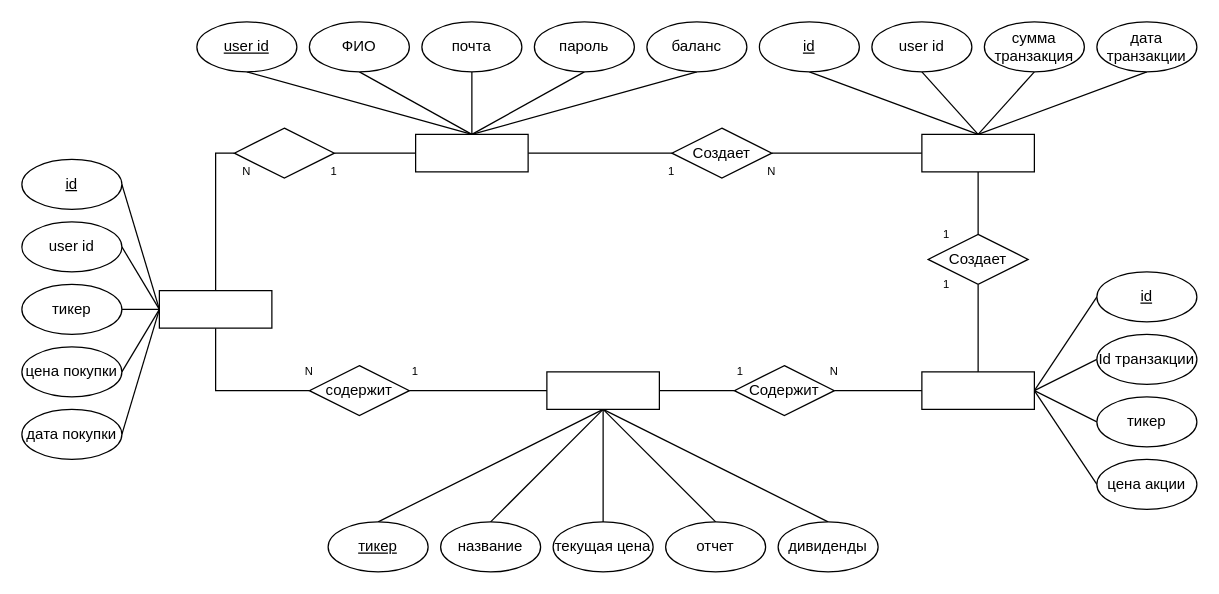
Image size: 1219x594. Some labels were removed from this diagram. Each missing label, with the box of its shape:
Акция: (546, 371, 659, 409)
Купленная акция: (158, 289, 272, 328)
Пользователь: (414, 133, 528, 172)
Сделка: (921, 371, 1034, 409)
Транзакция: (921, 133, 1034, 172)
Хранит: (233, 127, 334, 178)
